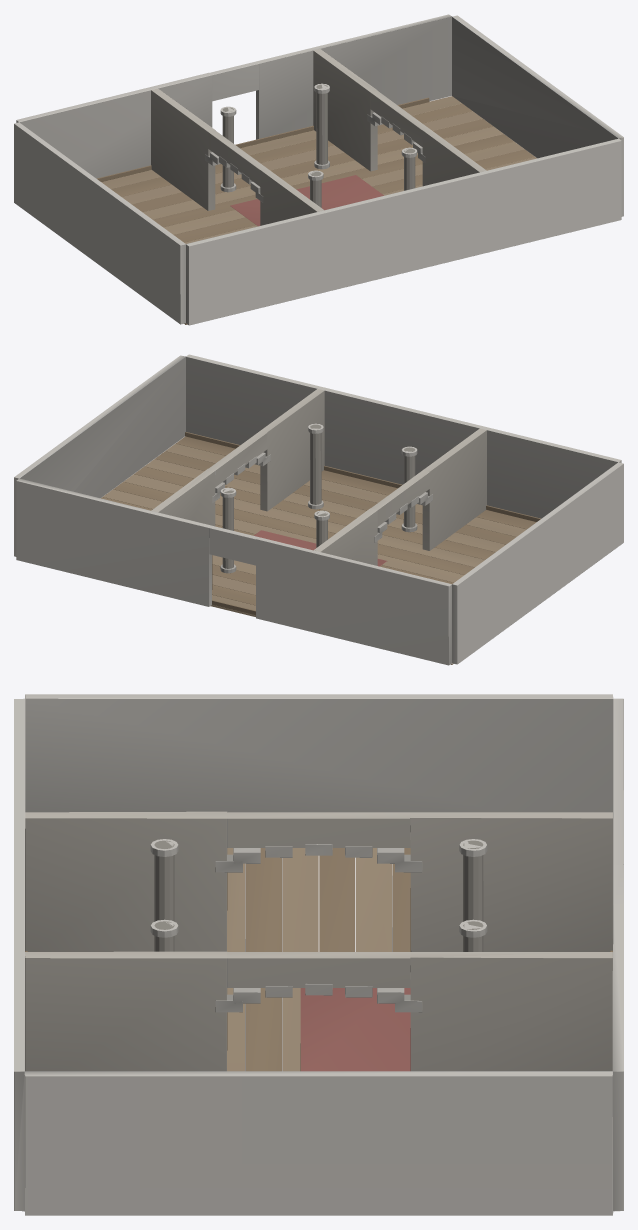
File: museum_hall_low.glb
3 views of the same model, one above another, from view 1: azimuth 30°, elevation 25°; view 2: azimuth 150°, elevation 25°; view 3: azimuth 270°, elevation 25° (orthographic). The views are drawn at different scales.
Size of the model in its own units: 24.59 by 4.31 by 16.6.
